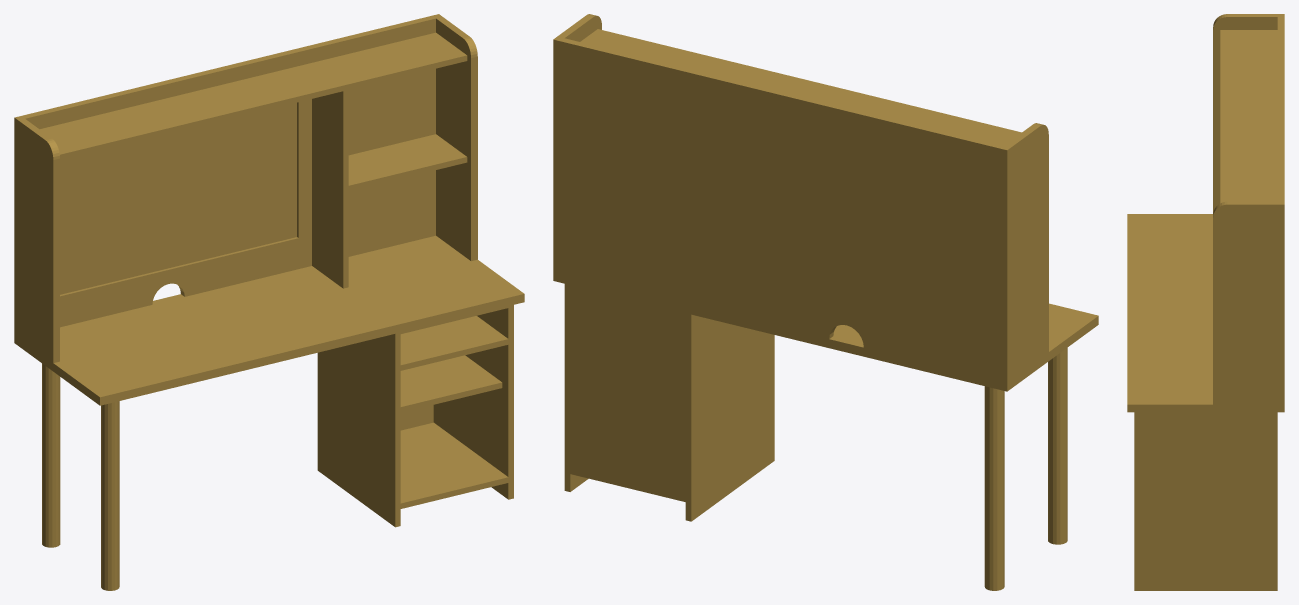
Rendered from MejaA.fbx.
The picture shows the model from 3 angles, left to right: view 1: azimuth 30°, elevation 25°; view 2: azimuth 150°, elevation 25°; view 3: azimuth 270°, elevation 25°; orthographic projection. The views are drawn at different scales.
Visible parts, largest first — view 1: Cube; view 2: Cube; view 3: Cube.
Part boxes in pixels (x1,y1,x2,y2): Cube: [14, 14, 524, 590]; Cube: [553, 14, 1098, 590]; Cube: [1127, 14, 1284, 590].
Bounding box in the file's own units: 157 × 150 × 55.
